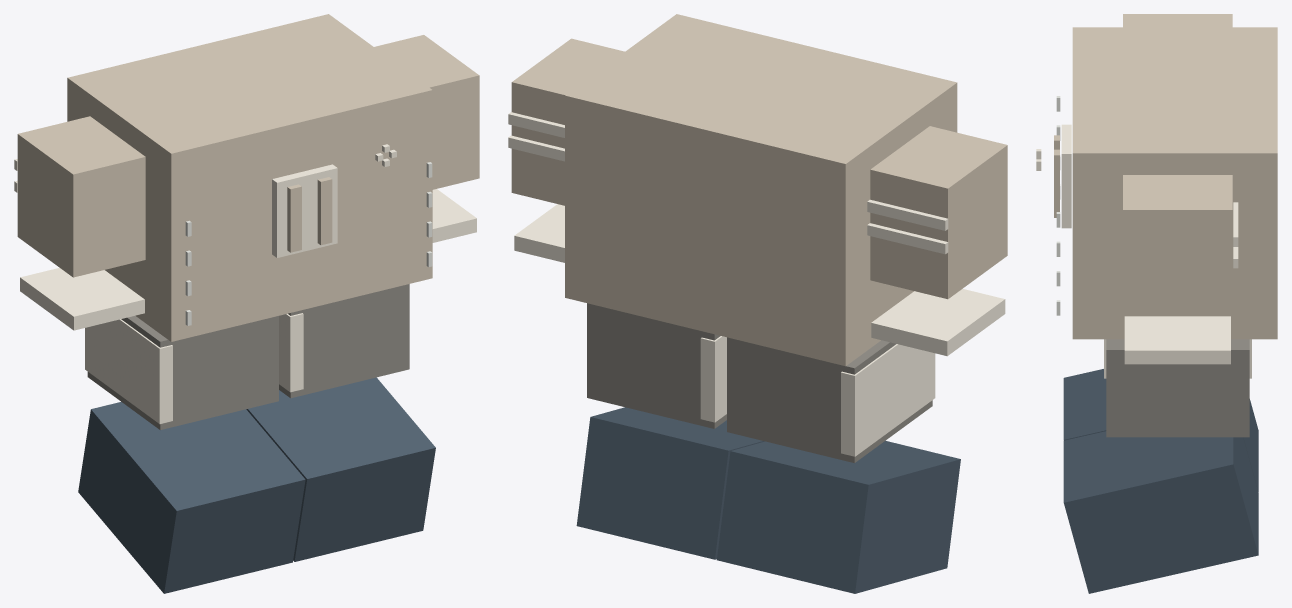
The model's file is sport-sand.glb.
3 views of the same model, side by side, from view 1: azimuth 30°, elevation 25°; view 2: azimuth 150°, elevation 25°; view 3: azimuth 270°, elevation 25° (orthographic). The views are drawn at different scales.
Visible parts, largest first — view 1: jacket, shoe-Right, shoe-Left, upper-sleeve-Right, trouser-Right, trouser-Left, upper-sleeve-Left, shorts-stripe-Right, cuff-Right, jersey-number, shorts-stripe-Left, cuff-Left (+2 smaller); view 2: jacket, shoe-Right, shoe-Left, upper-sleeve-Right, trouser-Right, trouser-Left, upper-sleeve-Left, shorts-stripe-Right, cuff-Right, shorts-stripe-Left, cuff-Left, design-sport-shoulder-stripe-Right-0 (+3 smaller); view 3: jacket, shoe-Left, upper-sleeve-Left, trouser-Left, cuff-Left, shoe-Right, upper-sleeve-Right, jersey-number, design-sport-number-eleven-0.025.
Part boxes in pixels (x1,y1,x2,y2): jacket: (67, 14, 432, 341); shoe-Right: (78, 402, 305, 593); shoe-Left: (246, 377, 435, 561); upper-sleeve-Right: (17, 116, 145, 277); trouser-Right: (87, 316, 278, 429); trouser-Left: (279, 284, 409, 398); upper-sleeve-Left: (374, 35, 479, 189); shorts-stripe-Right: (85, 319, 172, 423); cuff-Right: (20, 267, 144, 330); jersey-number: (272, 164, 337, 257); shorts-stripe-Left: (279, 313, 303, 392); cuff-Left: (432, 189, 476, 242); jacket: (565, 14, 957, 366); shoe-Right: (717, 440, 960, 593); shoe-Left: (576, 407, 764, 559); upper-sleeve-Right: (870, 126, 1007, 299); trouser-Right: (727, 337, 932, 462); trouser-Left: (587, 303, 726, 428); upper-sleeve-Left: (511, 38, 624, 205); shorts-stripe-Right: (841, 344, 935, 456); cuff-Right: (871, 288, 1005, 356); shorts-stripe-Left: (700, 336, 726, 422); cuff-Left: (514, 204, 564, 262); design-sport-shoulder-stripe-Right-0: (867, 199, 948, 230); jacket: (1072, 27, 1277, 339); shoe-Left: (1063, 431, 1258, 593); upper-sleeve-Left: (1123, 175, 1232, 311); trouser-Left: (1106, 339, 1249, 437); cuff-Left: (1124, 316, 1230, 364); shoe-Right: (1063, 369, 1258, 492); upper-sleeve-Right: (1123, 14, 1232, 27); jersey-number: (1061, 124, 1071, 228); design-sport-number-eleven-0.025: (1054, 149, 1059, 217).
Size of the model in its own units: 1.07 by 1.13 by 0.559.
